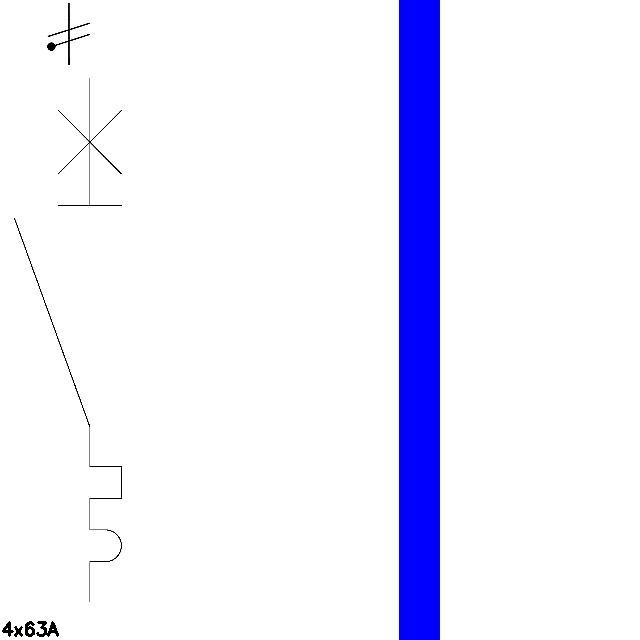interruptor_termomagnetico: (1, 65, 135, 615)
